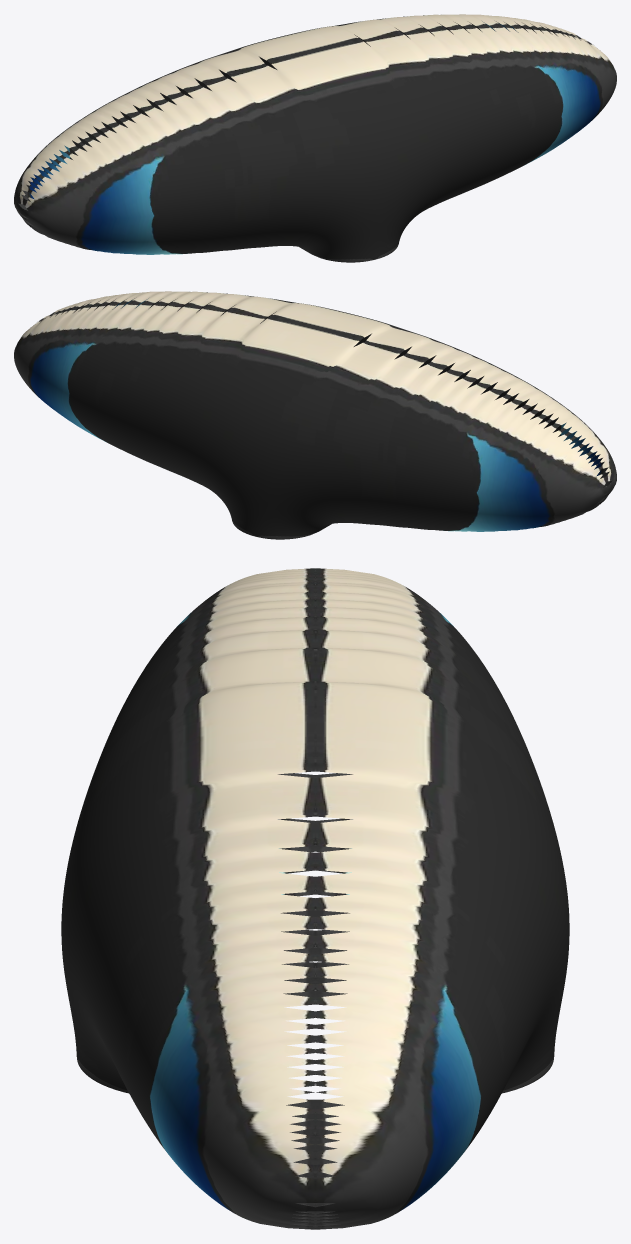
Rendered from crown_module.glb.
The picture shows the model from 3 angles, top to bottom: view 1: azimuth 30°, elevation 25°; view 2: azimuth 150°, elevation 25°; view 3: azimuth 270°, elevation 25°; orthographic projection. The views are drawn at different scales.
Parts seen in each view (by area): view 1: crown_module; view 2: crown_module; view 3: crown_module.
Part boxes in pixels (x1,y1,x2,y2): crown_module: (14,14,616,262); crown_module: (14,291,616,539); crown_module: (61,568,569,1229).
Size of the model in its own units: 0.9889 by 0.2671 by 0.3711.
1 material, 1 textured.
